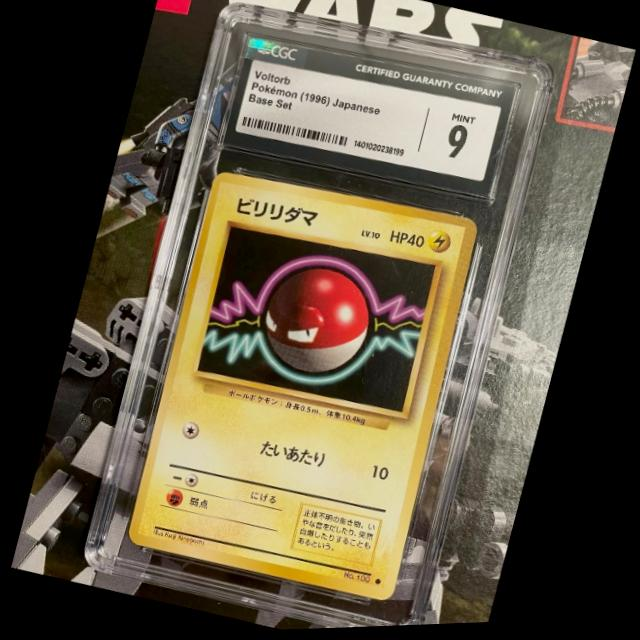card: (123, 171, 478, 604)
cgc_label: (221, 37, 515, 202)
cgc_slab: (76, 1, 558, 630)
